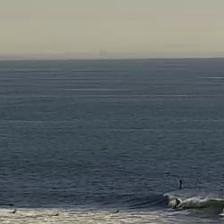surfer: (174, 198, 182, 206), (178, 179, 183, 189), (12, 210, 16, 214), (116, 210, 120, 214), (9, 204, 14, 207), (54, 214, 59, 216)
